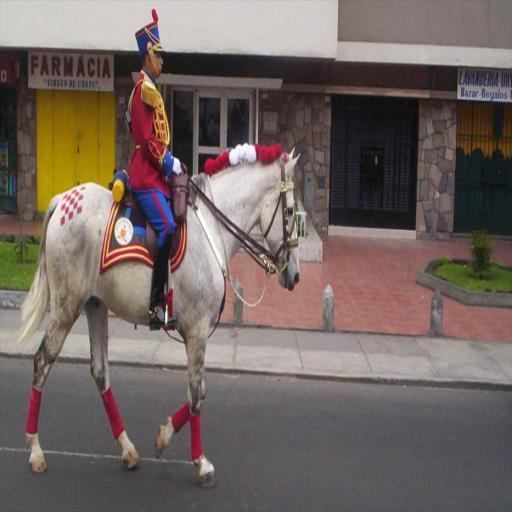Horse: (16, 145, 300, 490)
